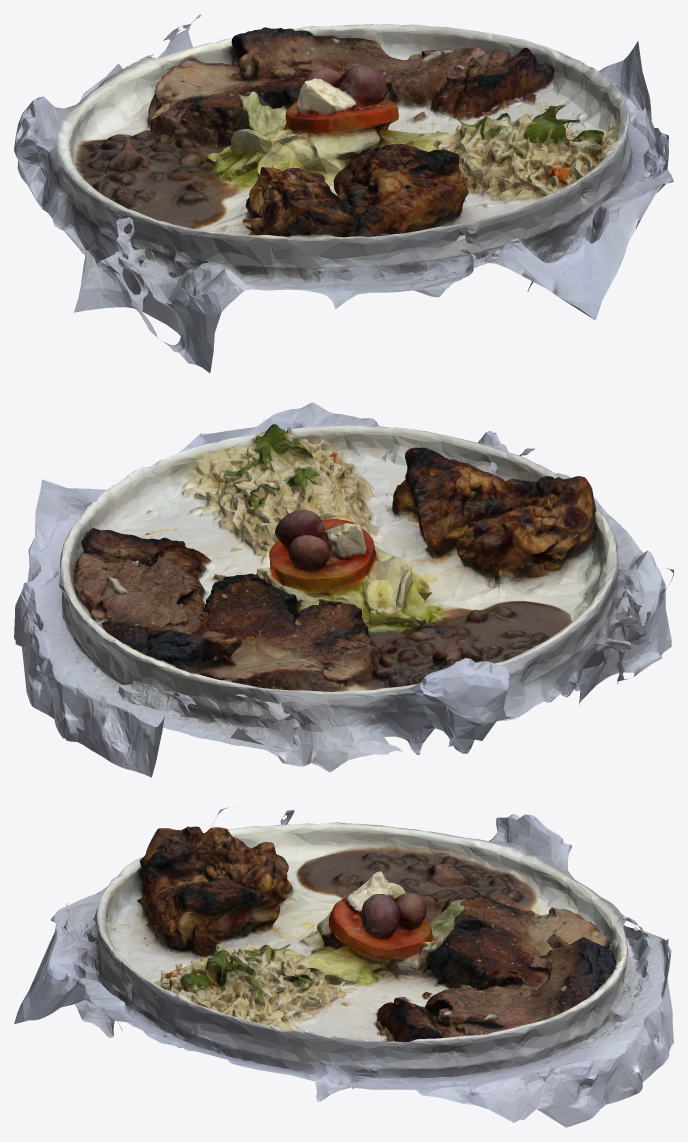
Rendered from prato-casa.glb.
3 views of the same model, one above another, from view 1: azimuth 30°, elevation 25°; view 2: azimuth 150°, elevation 25°; view 3: azimuth 270°, elevation 25° (orthographic). The views are drawn at different scales.
Visible parts, largest first — view 1: geometry_0; view 2: geometry_0; view 3: geometry_0.
Part boxes in pixels (left/top/right/bottom): geometry_0: left=14, top=14, right=673, bottom=372; geometry_0: left=14, top=402, right=673, bottom=777; geometry_0: left=14, top=806, right=673, bottom=1127.
Size of the model in its own units: 0.2986 by 0.0782 by 0.3171.
Materials: 1 (1 with a texture image).
